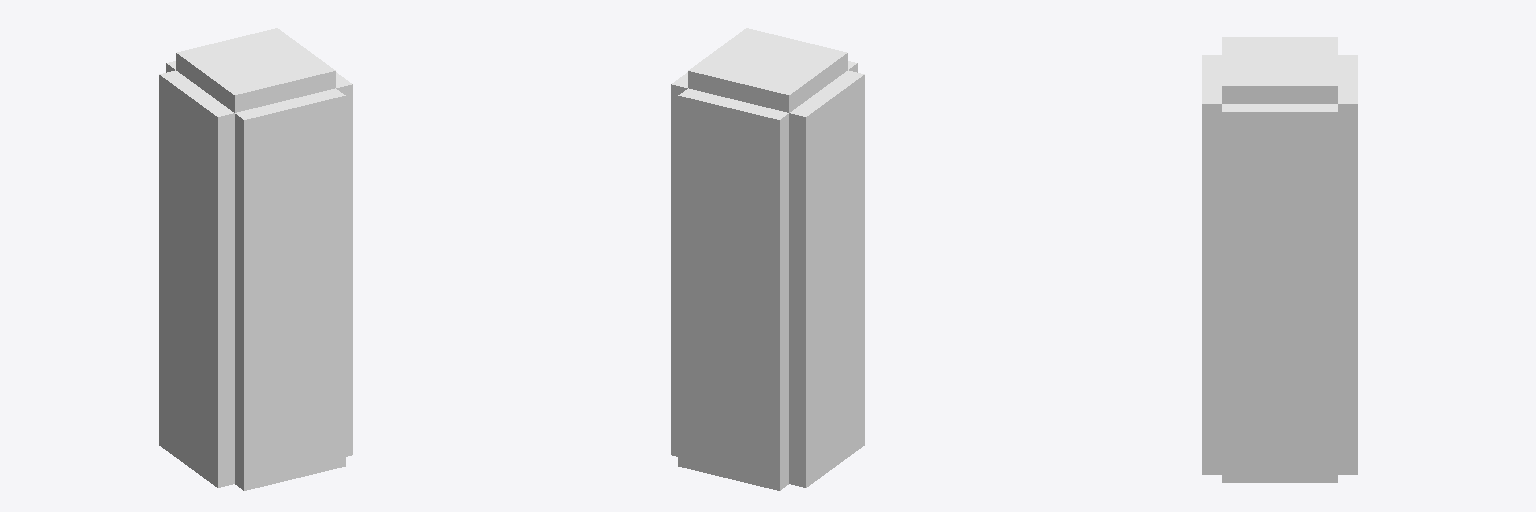
The model's file is cigarette_1_1.0.obj.
3 views of the same model, side by side, from view 1: azimuth 30°, elevation 25°; view 2: azimuth 150°, elevation 25°; view 3: azimuth 270°, elevation 25° (orthographic).
Parts seen in each view (by area): view 1: object 1; view 2: object 1; view 3: object 1.
Part boxes in pixels (x1,y1,x2,y2): object 1: (159, 28, 352, 490); object 1: (671, 28, 864, 490); object 1: (1202, 37, 1357, 482).
Bounding box in the file's own units: 0.8 × 2.2 × 0.8.